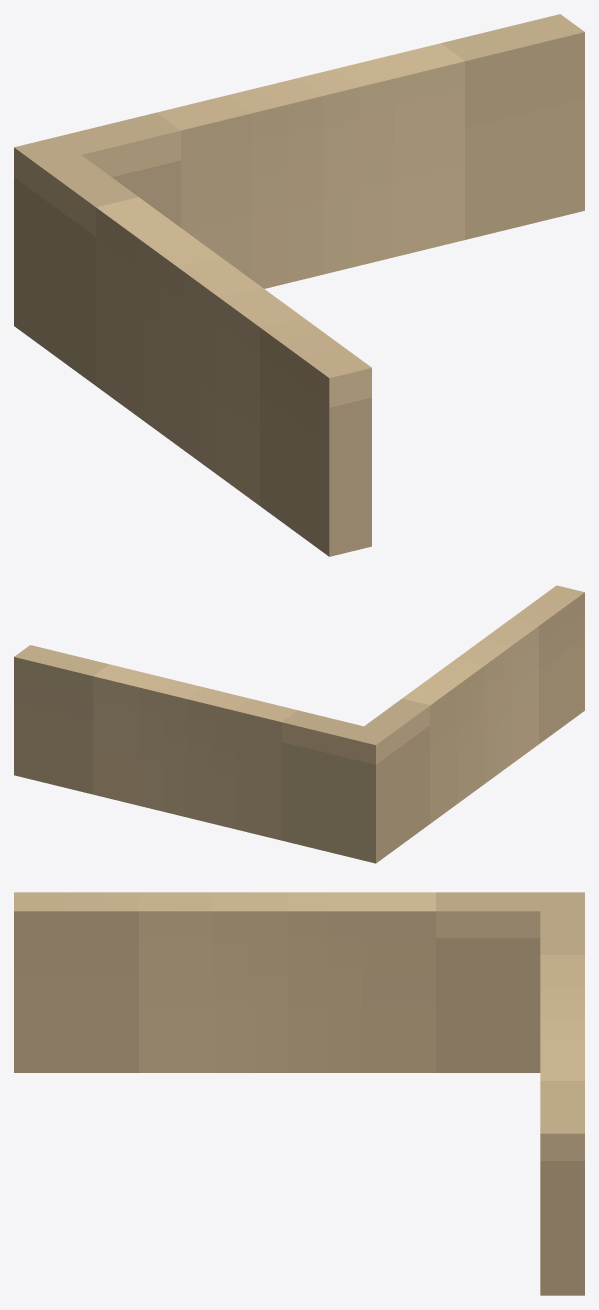
File: pixel-modern-apartments-skirting-corner-994dfc26__29795.glb
3 views of the same model, one above another, from view 1: azimuth 30°, elevation 25°; view 2: azimuth 150°, elevation 25°; view 3: azimuth 270°, elevation 25° (orthographic). The views are drawn at different scales.
Visible parts, largest first — view 1: skirting-corner; view 2: skirting-corner; view 3: skirting-corner.
Part boxes in pixels (x1,y1,x2,y2): skirting-corner: [14, 14, 584, 556]; skirting-corner: [14, 585, 584, 863]; skirting-corner: [14, 892, 584, 1295].
Bounding box in the file's own units: 0.32 × 0.1 × 0.32.
1 material, 1 textured.
